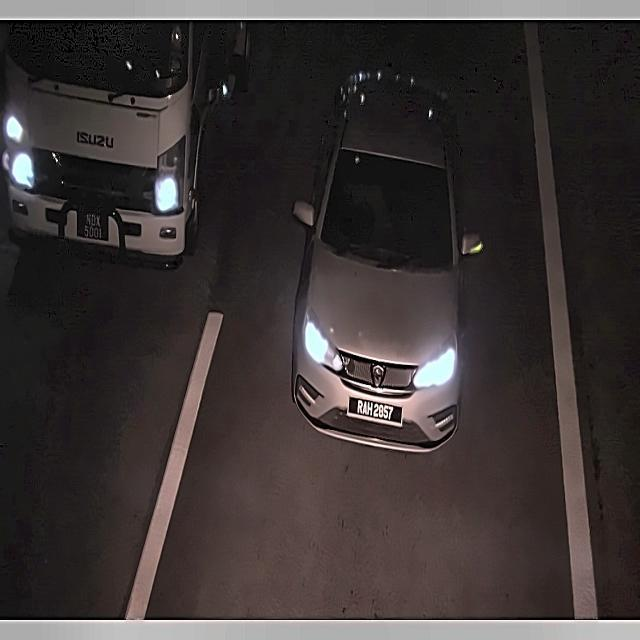car: (346, 393, 408, 428), (74, 204, 114, 246)
